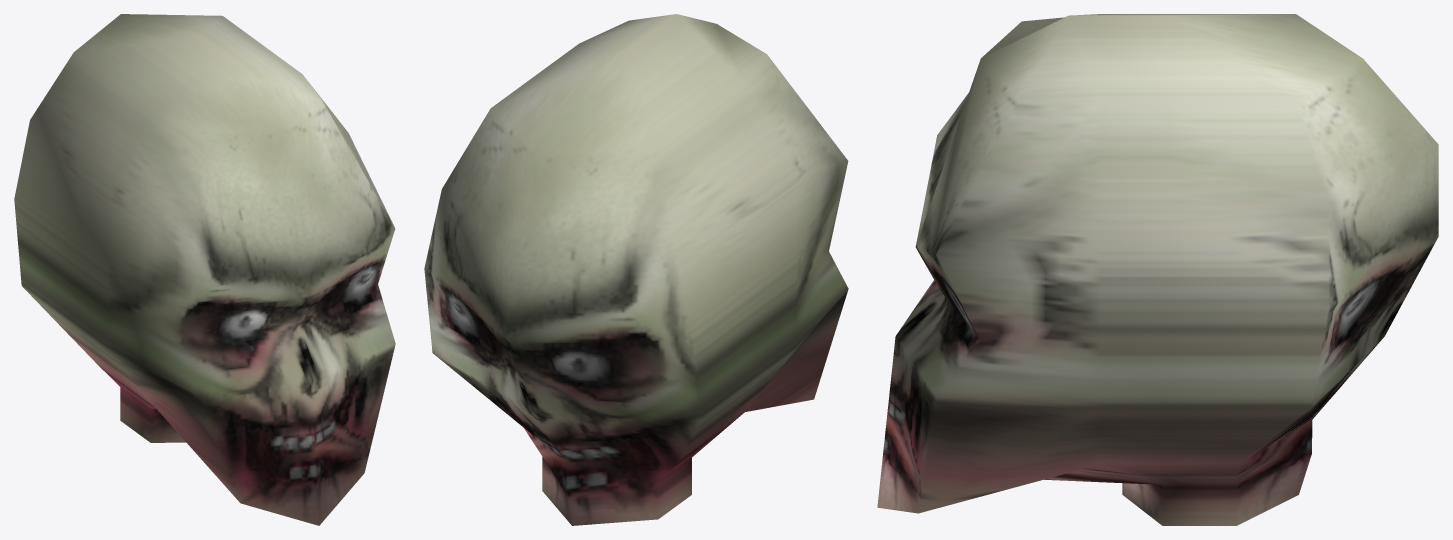
Rendered from Head.FBX.
The picture shows the model from 3 angles, left to right: view 1: azimuth 30°, elevation 25°; view 2: azimuth 150°, elevation 25°; view 3: azimuth 270°, elevation 25°; orthographic projection. The views are drawn at different scales.
Visible parts, largest first — view 1: Box02; view 2: Box02; view 3: Box02.
Boxes of the visible parts, x1,y1,x2,y2 form: Box02: (14,14,395,525); Box02: (424,14,848,525); Box02: (877,14,1438,525).
Size of the model in its own units: 98.66 by 157 by 162.
Materials: 1 (1 with a texture image).
